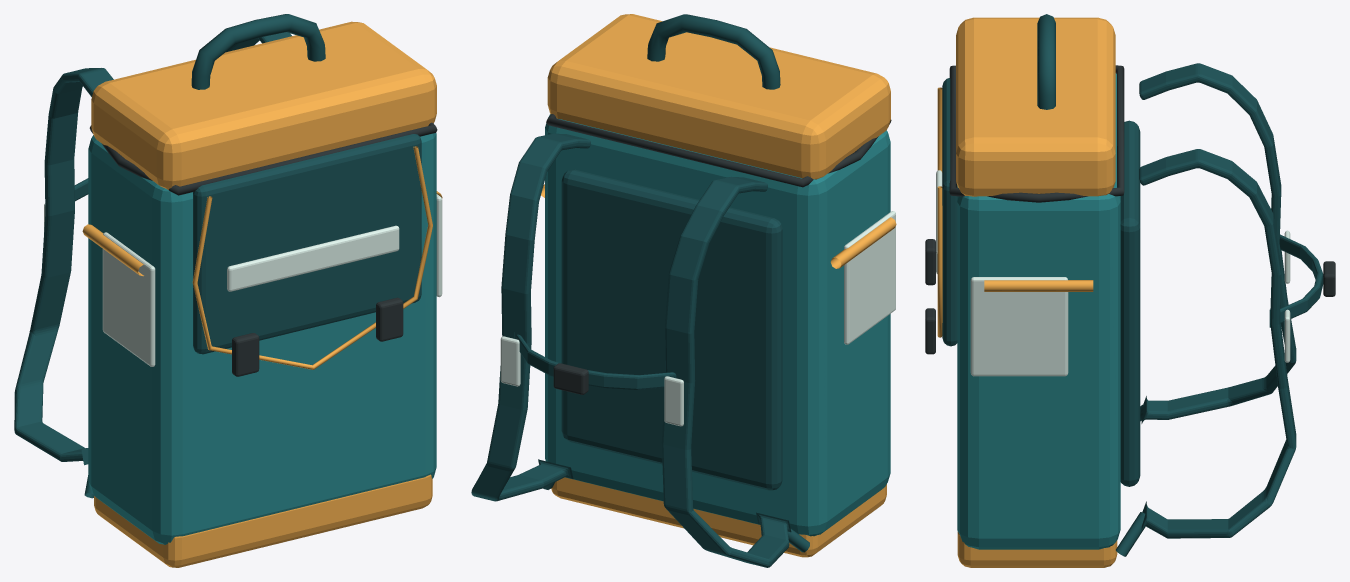
Rendered from delivery_backpack.glb.
3 renders of one model, left to right at view 1: azimuth 30°, elevation 25°; view 2: azimuth 150°, elevation 25°; view 3: azimuth 270°, elevation 25°, orthographic.
Visible parts, largest first — view 1: DeliveryBackpack_Body, DeliveryBackpack_InsulatedLid, DeliveryBackpack_FrontFlap, DeliveryBackpack_ShoulderStrap_L, DeliveryBackpack_ReinforcedBase, DeliveryBackpack_ReflectiveSide_L, DeliveryBackpack_ReflectiveFront, DeliveryBackpack_CarryHandle, DeliveryBackpack_FrontFlapSeam, DeliveryBackpack_LidZipper, DeliveryBackpack, DeliveryBackpack_FlapBuckle_-1 (+2 smaller); view 2: DeliveryBackpack_Body, DeliveryBackpack_PaddedBack, DeliveryBackpack_InsulatedLid, DeliveryBackpack_ShoulderStrap_L, DeliveryBackpack_ShoulderStrap_R, DeliveryBackpack_ReinforcedBase, DeliveryBackpack_ReflectiveSide_L, DeliveryBackpack_CarryHandle, DeliveryBackpack_LidZipper, DeliveryBackpack_SternumStrap, DeliveryBackpack_StrapReflector_R, DeliveryBackpack_StrapReflector_L (+2 smaller); view 3: DeliveryBackpack_Body, DeliveryBackpack_InsulatedLid, DeliveryBackpack_ReflectiveSide_R, DeliveryBackpack_ShoulderStrap_R, DeliveryBackpack_PaddedBack, DeliveryBackpack_ShoulderStrap_L, DeliveryBackpack_FrontFlap, DeliveryBackpack_ReinforcedBase, DeliveryBackpack_LidZipper, DeliveryBackpack_CarryHandle, DeliveryBackpack_SternumStrap, DeliveryBackpack_FrontFlapSeam (+2 smaller).
Part boxes in pixels (x1,y1,x2,y2): DeliveryBackpack_Body: [88, 133, 436, 544]; DeliveryBackpack_InsulatedLid: [91, 21, 436, 189]; DeliveryBackpack_FrontFlap: [193, 134, 421, 354]; DeliveryBackpack_ShoulderStrap_L: [14, 68, 113, 465]; DeliveryBackpack_ReinforcedBase: [94, 474, 432, 567]; DeliveryBackpack_ReflectiveSide_L: [102, 232, 155, 366]; DeliveryBackpack_ReflectiveFront: [227, 225, 399, 291]; DeliveryBackpack_CarryHandle: [191, 14, 325, 89]; DeliveryBackpack_FrontFlapSeam: [192, 146, 432, 369]; DeliveryBackpack_LidZipper: [89, 122, 437, 195]; DeliveryBackpack: [376, 297, 403, 341]; DeliveryBackpack_FlapBuckle_-1: [232, 333, 259, 376]; DeliveryBackpack_Body: [545, 114, 890, 536]; DeliveryBackpack_PaddedBack: [561, 169, 782, 490]; DeliveryBackpack_InsulatedLid: [547, 14, 890, 179]; DeliveryBackpack_ShoulderStrap_L: [661, 176, 791, 567]; DeliveryBackpack_ShoulderStrap_R: [471, 133, 590, 501]; DeliveryBackpack_ReinforcedBase: [551, 477, 886, 557]; DeliveryBackpack_ReflectiveSide_L: [844, 211, 895, 344]; DeliveryBackpack_CarryHandle: [647, 14, 780, 89]; DeliveryBackpack_LidZipper: [546, 114, 891, 187]; DeliveryBackpack_SternumStrap: [514, 332, 676, 389]; DeliveryBackpack_StrapReflector_R: [500, 336, 520, 386]; DeliveryBackpack_StrapReflector_L: [664, 376, 683, 426]; DeliveryBackpack_Body: [957, 73, 1120, 549]; DeliveryBackpack_InsulatedLid: [956, 17, 1115, 196]; DeliveryBackpack_ReflectiveSide_R: [970, 277, 1068, 376]; DeliveryBackpack_ShoulderStrap_R: [1139, 149, 1296, 538]; DeliveryBackpack_PaddedBack: [1120, 120, 1140, 486]; DeliveryBackpack_ShoulderStrap_L: [1139, 63, 1296, 423]; DeliveryBackpack_FrontFlap: [942, 78, 957, 346]; DeliveryBackpack_ReinforcedBase: [957, 532, 1117, 567]; DeliveryBackpack_LidZipper: [949, 65, 1124, 202]; DeliveryBackpack_CarryHandle: [1037, 14, 1055, 109]; DeliveryBackpack_SternumStrap: [1269, 234, 1323, 327]; DeliveryBackpack_FrontFlapSeam: [937, 87, 942, 337].
Size of the model in its own units: 0.444 by 0.6815 by 0.527.
